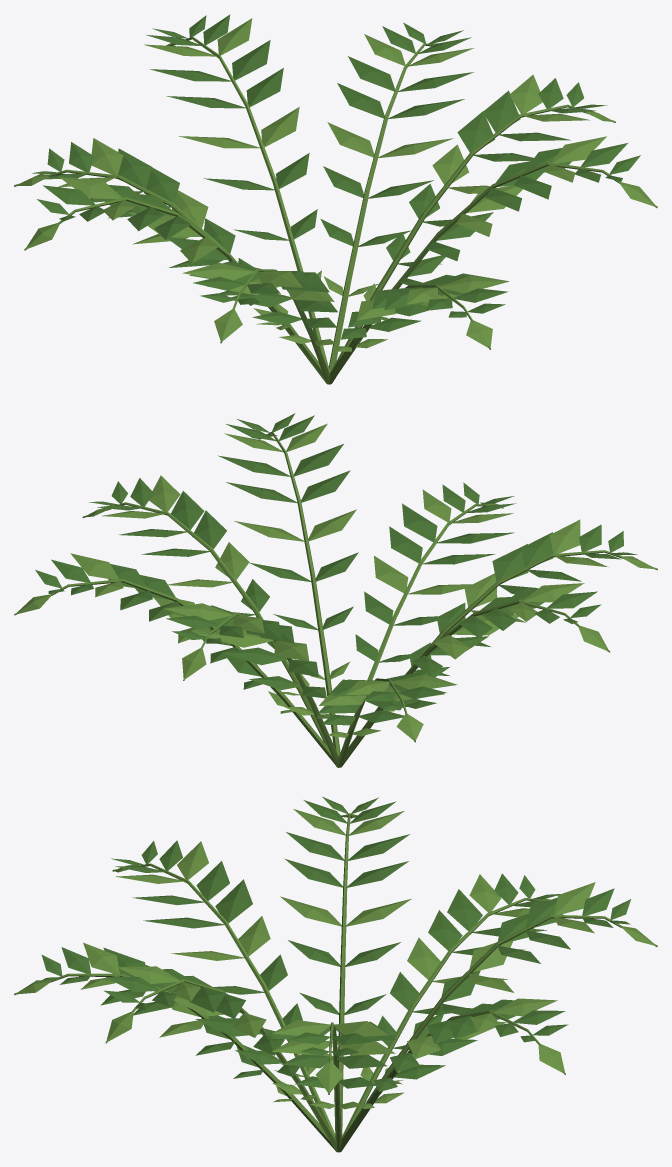
File: fern_lod0.gltf
3 renders of one model, top to bottom at view 1: azimuth 30°, elevation 25°; view 2: azimuth 150°, elevation 25°; view 3: azimuth 270°, elevation 25°, orthographic. The views are drawn at different scales.
Parts seen in each view (by area): view 1: fern_original_lod0; view 2: fern_original_lod0; view 3: fern_original_lod0.
Boxes of the visible parts, x1,y1,x2,y2 form: fern_original_lod0: [14, 14, 657, 384]; fern_original_lod0: [14, 413, 657, 767]; fern_original_lod0: [14, 796, 657, 1152].
Bounding box in the file's own units: 1.05 × 0.44 × 1.05.
